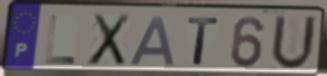6: (228, 15, 268, 70)
A: (127, 15, 177, 68)
L: (44, 13, 78, 65)
T: (185, 15, 221, 67)
U: (268, 13, 319, 73)
X: (85, 13, 133, 68)
